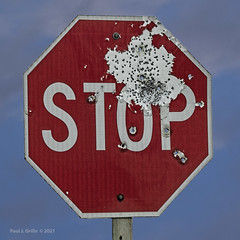StopSign: (23, 15, 211, 217)
